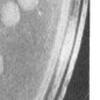white: (0, 0, 21, 28), (14, 0, 41, 13), (0, 49, 6, 79), (37, 8, 43, 18)
